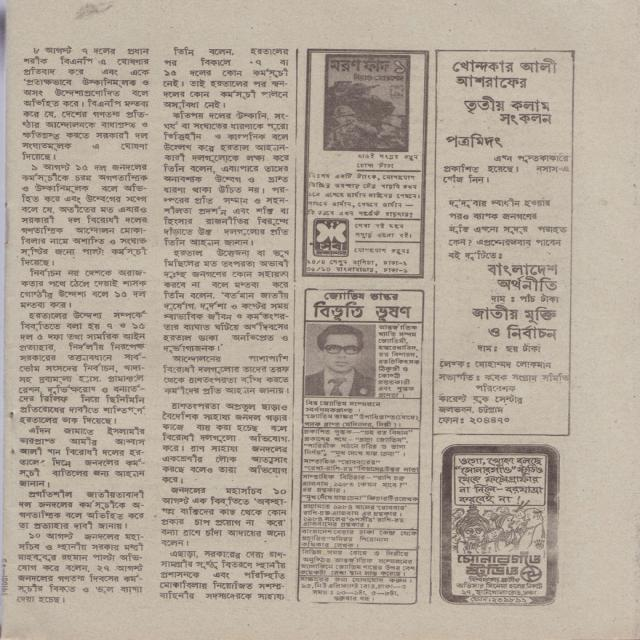advertisement: (434, 51, 573, 435), (297, 289, 423, 604), (303, 50, 428, 278), (441, 445, 558, 605)
page number: (0, 558, 10, 569)
paragraph: (162, 110, 290, 247), (19, 308, 149, 425), (21, 46, 151, 162), (20, 163, 150, 267), (162, 248, 290, 353), (160, 401, 290, 486), (15, 532, 144, 605), (161, 44, 291, 109), (18, 426, 147, 488), (160, 486, 289, 547), (159, 550, 287, 602), (162, 353, 291, 395), (18, 267, 147, 309), (17, 488, 145, 530)
text: (0, 573, 10, 599)
